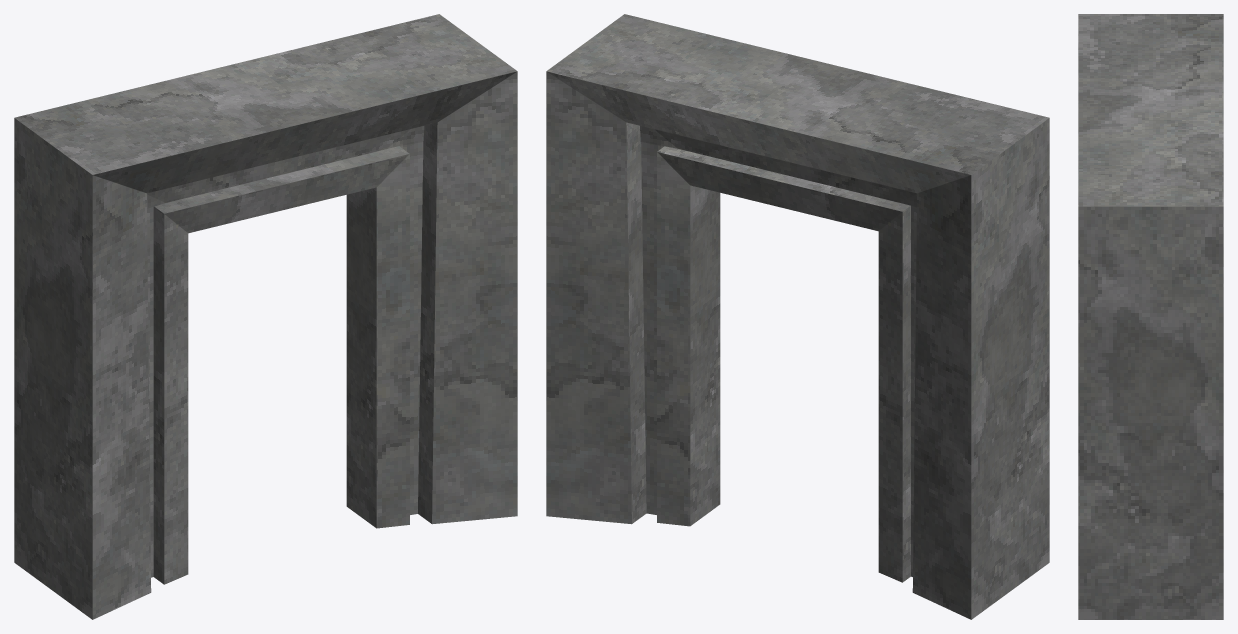
The model's file is door_frame.gltf.
The picture shows the model from 3 angles, left to right: view 1: azimuth 30°, elevation 25°; view 2: azimuth 150°, elevation 25°; view 3: azimuth 270°, elevation 25°; orthographic projection. The views are drawn at different scales.
Parts seen in each view (by area): view 1: Frame; view 2: Frame; view 3: Frame.
Part boxes in pixels (bbox=[...]): Frame: bbox=[14, 14, 517, 619]; Frame: bbox=[546, 14, 1049, 619]; Frame: bbox=[1078, 14, 1223, 619].
Bounding box in the file's own units: 3 × 3 × 0.9578.
1 material, 1 textured.
